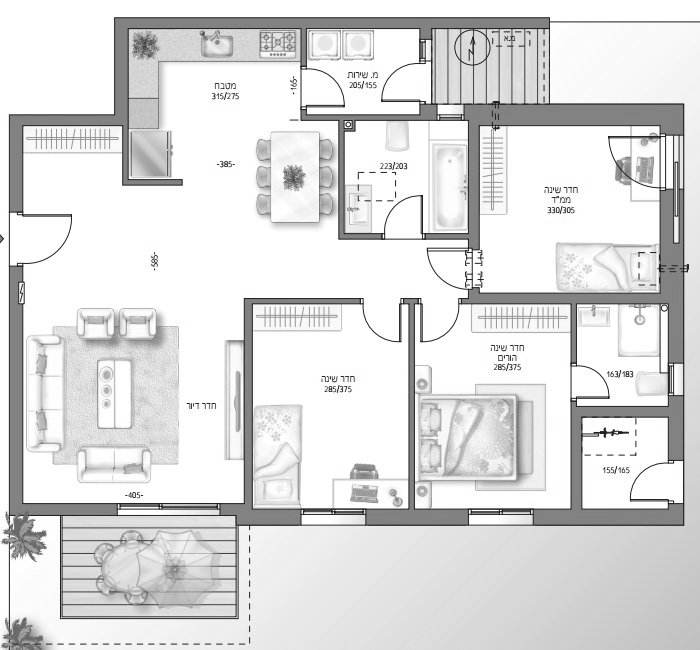room: (468, 104, 685, 305), (409, 296, 582, 527), (245, 298, 415, 526), (338, 114, 479, 240), (571, 293, 685, 418), (301, 17, 432, 123), (572, 406, 685, 525)
